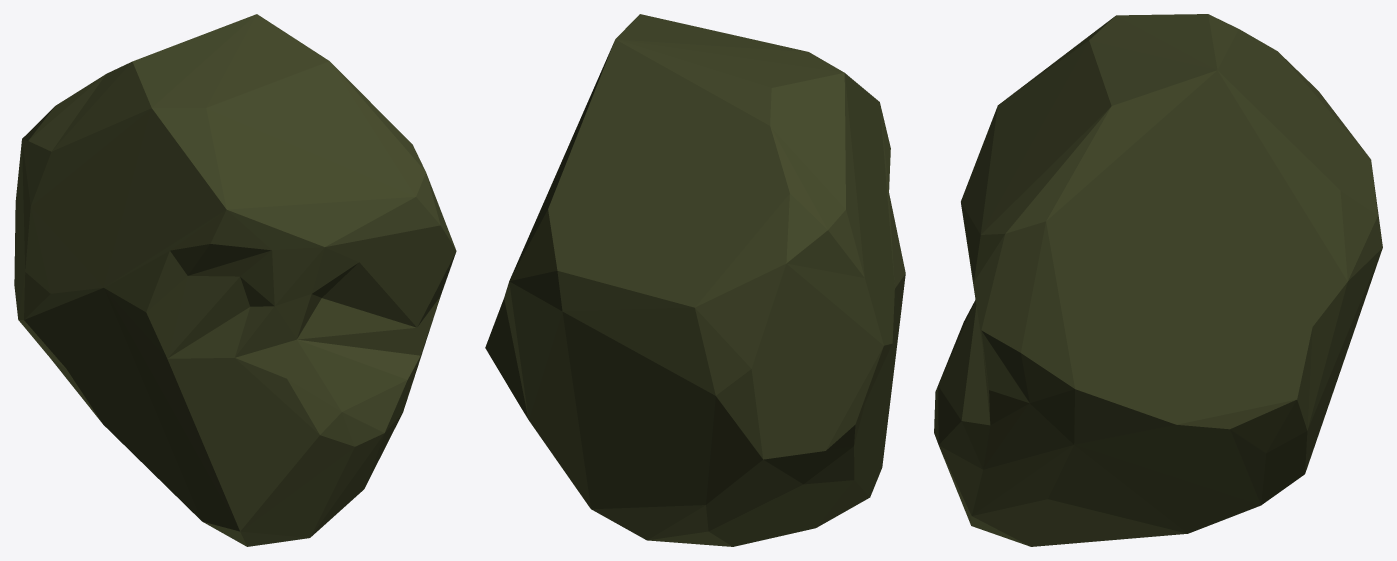
The model's file is SM_small_rock_38.fbx.
3 views of the same model, side by side, from view 1: azimuth 30°, elevation 25°; view 2: azimuth 150°, elevation 25°; view 3: azimuth 270°, elevation 25° (orthographic). The views are drawn at different scales.
Visible parts, largest first — view 1: small_rock_38; view 2: small_rock_38; view 3: small_rock_38.
Boxes of the visible parts, <box> form: small_rock_38: <box>14,14,456,546</box>; small_rock_38: <box>485,14,905,546</box>; small_rock_38: <box>934,14,1382,546</box>.
Bounding box in the file's own units: 15.53 × 19.13 × 15.23.
